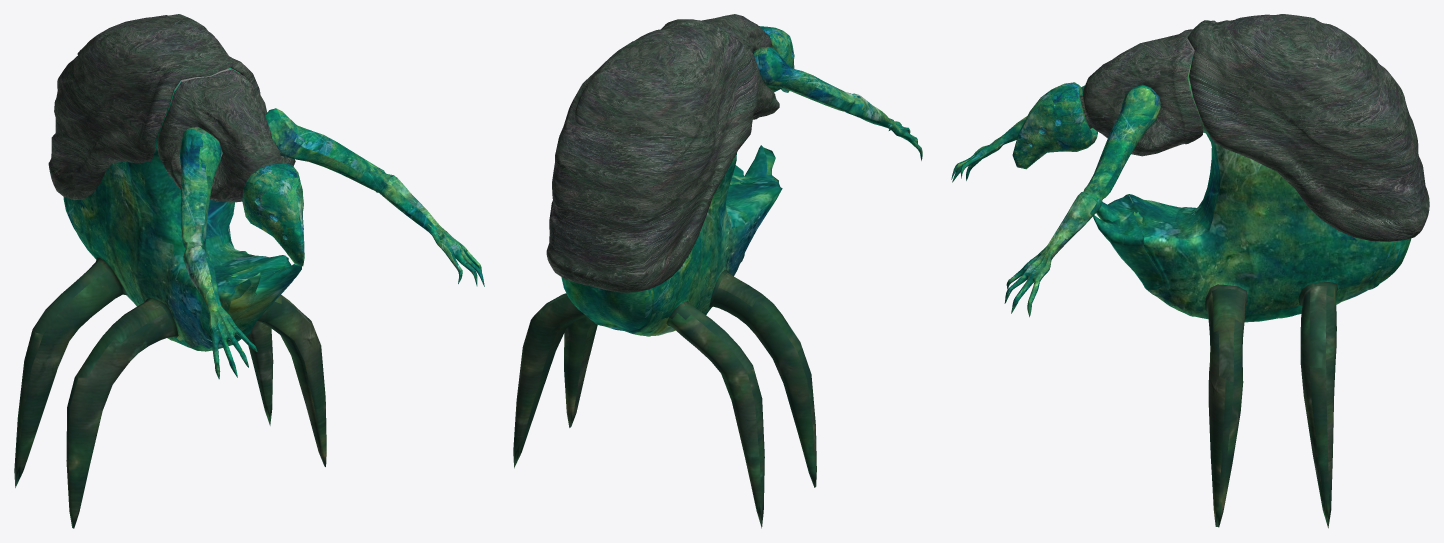
Rendered from Aranar.0022.obj.
The picture shows the model from 3 angles, left to right: view 1: azimuth 30°, elevation 25°; view 2: azimuth 150°, elevation 25°; view 3: azimuth 270°, elevation 25°; orthographic projection. The views are drawn at different scales.
Size of the model in its own units: 2.8 by 3.82 by 3.73.
Materials: 5 (4 with a texture image).
